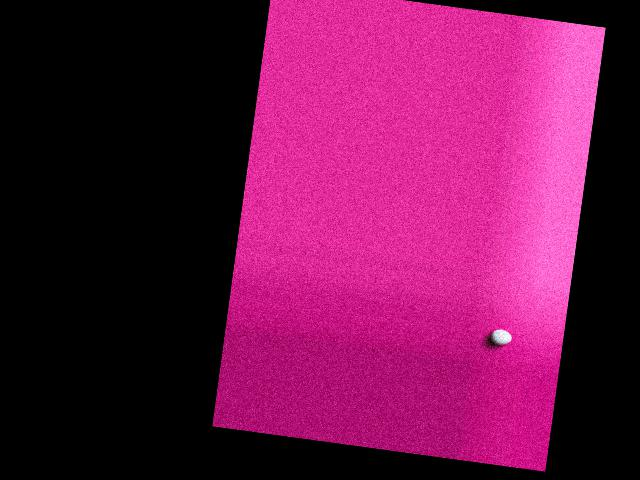egg: (489, 327, 512, 345)
